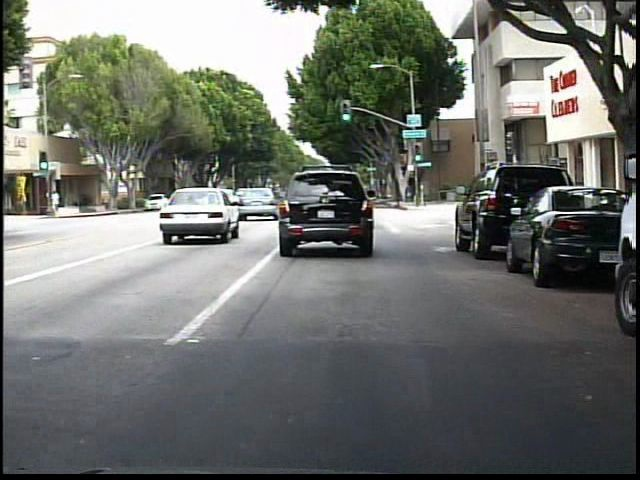person: (54, 188, 65, 217)
